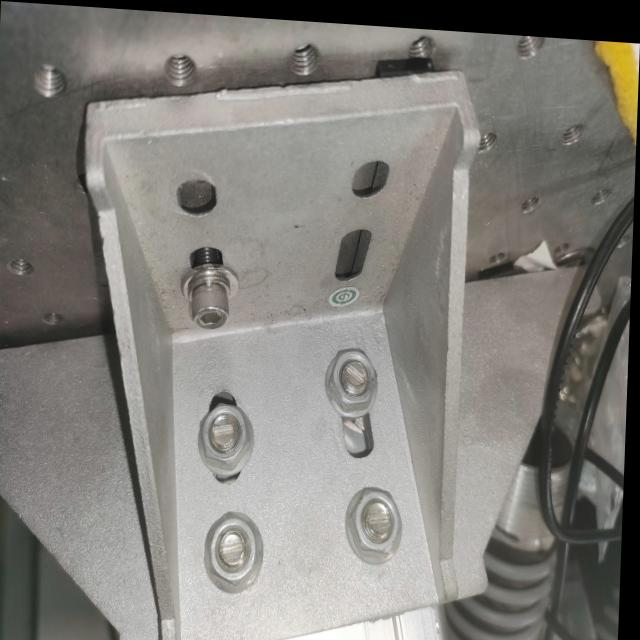Missing bolt: (175, 163, 224, 219), (337, 217, 375, 285), (350, 147, 394, 203)
Regular bolt: (209, 507, 264, 586), (352, 480, 406, 554), (201, 400, 257, 468), (186, 262, 236, 328), (331, 342, 381, 407)
